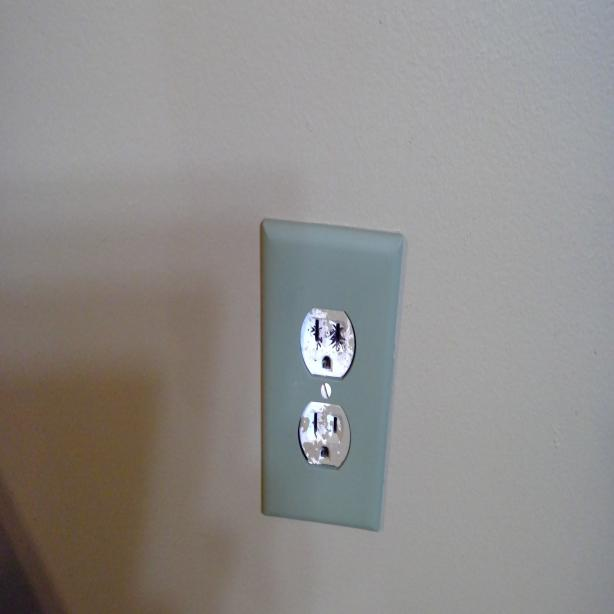typeb: (298, 304, 354, 385), (300, 399, 350, 475)
